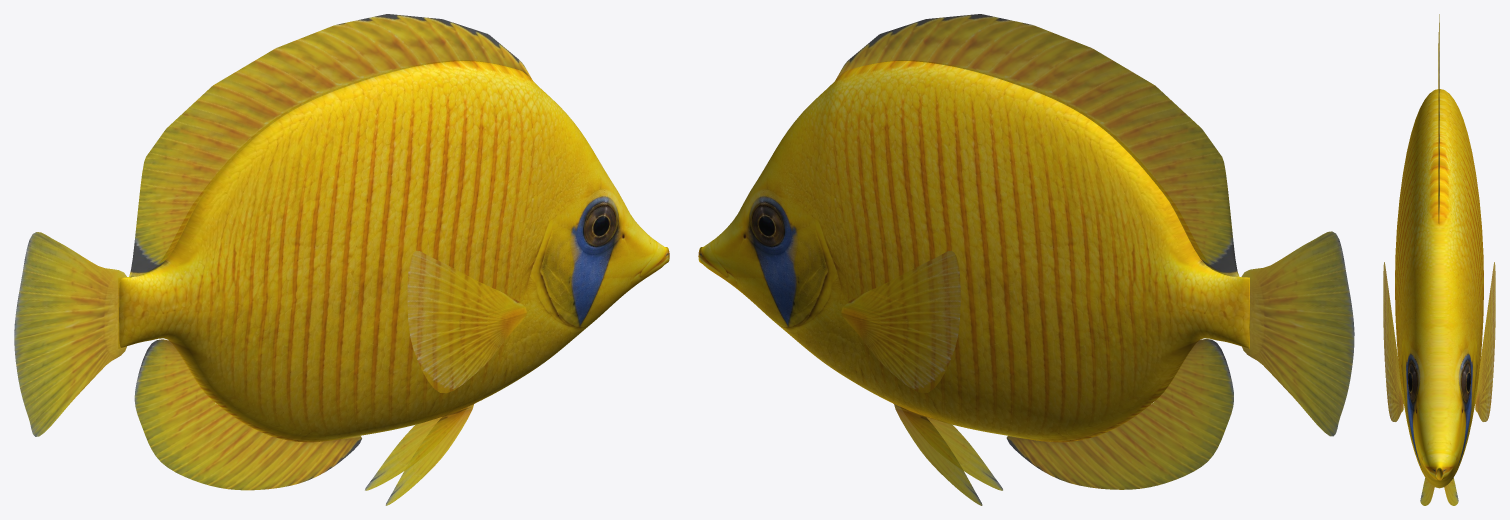
The model's file is semilarvatus-WtGca7pG.glb.
The picture shows the model from 3 angles, left to right: view 1: azimuth 30°, elevation 25°; view 2: azimuth 150°, elevation 25°; view 3: azimuth 270°, elevation 25°; orthographic projection. The views are drawn at different scales.
Visible parts, largest first — view 1: semilarvatus__body, semilarvatus__fin_1, semilarvatus__fin_0, semilarvatus__fin_2, semilarvatus__pectoral_1, semilarvatus__gill_1, semilarvatus__pelvic_1, semilarvatus__pelvic_-1, semilarvatus__eye_1; view 2: semilarvatus__body, semilarvatus__fin_1, semilarvatus__fin_0, semilarvatus__fin_2, semilarvatus__pectoral_-1, semilarvatus__gill_-1, semilarvatus__pelvic_-1, semilarvatus__pelvic_1, semilarvatus__eye_-1; view 3: semilarvatus__body, semilarvatus__pectoral_1, semilarvatus__pectoral_-1, semilarvatus__fin_1, semilarvatus__gill_1, semilarvatus__gill_-1, semilarvatus__pelvic_1, semilarvatus__pelvic_-1, semilarvatus__eye_1, semilarvatus__eye_-1.
Boxes of the visible parts, <box> form: semilarvatus__body: <box>119,61,669,442</box>; semilarvatus__fin_1: <box>129,14,532,277</box>; semilarvatus__fin_0: <box>14,232,127,436</box>; semilarvatus__fin_2: <box>134,339,361,490</box>; semilarvatus__pectoral_1: <box>407,251,526,393</box>; semilarvatus__gill_1: <box>519,219,573,347</box>; semilarvatus__pelvic_1: <box>385,403,474,505</box>; semilarvatus__pelvic_-1: <box>365,417,441,490</box>; semilarvatus__eye_1: <box>586,207,614,243</box>; semilarvatus__body: <box>698,61,1249,442</box>; semilarvatus__fin_1: <box>836,14,1239,276</box>; semilarvatus__fin_0: <box>1241,231,1354,436</box>; semilarvatus__fin_2: <box>1006,338,1233,489</box>; semilarvatus__pectoral_-1: <box>841,250,960,393</box>; semilarvatus__gill_-1: <box>794,219,848,347</box>; semilarvatus__pelvic_-1: <box>893,403,982,505</box>; semilarvatus__pelvic_1: <box>925,416,1002,490</box>; semilarvatus__eye_-1: <box>753,207,781,243</box>; semilarvatus__body: <box>1395,89,1483,488</box>; semilarvatus__pectoral_1: <box>1383,262,1403,421</box>; semilarvatus__pectoral_-1: <box>1475,262,1495,421</box>; semilarvatus__fin_1: <box>1438,14,1439,224</box>; semilarvatus__gill_1: <box>1400,328,1415,454</box>; semilarvatus__gill_-1: <box>1463,328,1478,454</box>; semilarvatus__pelvic_1: <box>1420,478,1434,505</box>; semilarvatus__pelvic_-1: <box>1444,478,1458,505</box>; semilarvatus__eye_1: <box>1407,365,1415,399</box>; semilarvatus__eye_-1: <box>1463,365,1471,399</box>.
Size of the model in its own units: 1.2 by 0.8454 by 0.1945.
Materials: 5 (5 with a texture image).
